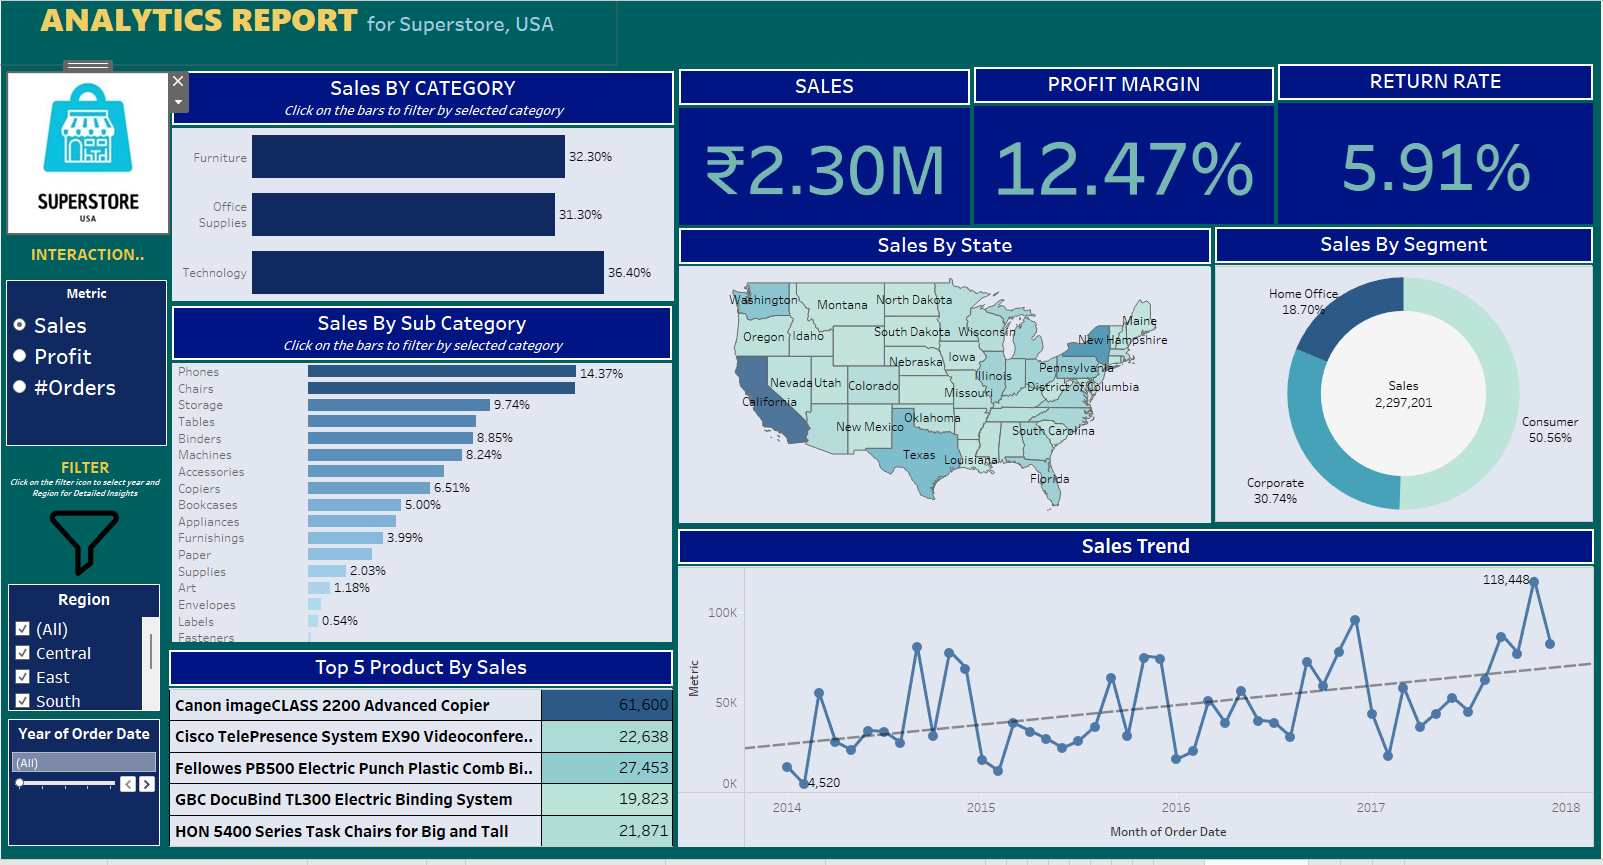

What the dashboard file says about the page in this screenshot:
{"tool":"tableau","page":{"name":"Dashboard 2","canvas":[1000,1000],"units":"permille","ordinal":0},"visuals":[{"type":"dashboard-object","box":[895.6,1.1,101.9,18.9]},{"type":"worksheet","title":"8","mark":"Automatic","box":[798.1,94.7,196.9,182.6]},{"type":"worksheet","title":"7","mark":"Automatic","box":[608.1,98,187.5,179.3]},{"type":"worksheet","title":"6","mark":"Automatic","box":[423.8,100.2,181.9,178.2]},{"type":"worksheet","title":"Parameter & Group: (Q.1)","mark":"Automatic","rows":["Category"],"cols":["Sales"],"box":[106.9,102.5,313.8,261.7]},{"type":"image","param":"Image/Picture1.jpg","box":[4.4,104.7,100,182.6]},{"type":"worksheet","title":"4","mark":"Pie","rows":["Calculation_1210905395875737616","Calculation_1210905395875758098"],"box":[758.8,280.6,236.2,336.3]},{"type":"worksheet","title":"3","mark":"Automatic","box":[423.8,281.7,332.5,336.3]},{"type":"text","box":[3.8,289.5,100.6,42.3]},{"type":"parameter","param":"[Parameters].[Parameter 3]","box":[3.1,340.8,100.6,189.3]},{"type":"worksheet","title":"1","mark":"Automatic","rows":["Sub-Category"],"cols":["Calculation_1210905395691753473"],"box":[106.9,369.7,312.5,383.1]},{"type":"text","box":[1.9,531.2,101.2,70.2]},{"type":"dashboard-object","box":[1.9,591.3,100,93.5]},{"type":"worksheet","title":"5","mark":"Automatic","rows":["Sales","Sales"],"cols":["Order Date"],"box":[423.1,623.6,572.5,363]},{"type":"filter","title":"8","param":"[federated.0hsd5130l4r3iv1anlj7r06luda5].[none:Region:nk]","box":[1.9,683,100,153.8]},{"type":"worksheet","title":"2","mark":"Square","rows":["Product Name"],"box":[105,761.7,315,224.9]},{"type":"filter","title":"8","param":"[federated.0hsd5130l4r3iv1anlj7r06luda5].[yr:Order Date:ok]","box":[1.9,836.8,100,152.7]}]}

Visuals, with their boxes on the dashboard's canvas, which has no fixed pixel size, in thousandths of its width and height (x1, y1, x2, y2). These are canvas units, not pixel positions in the 1603x865 screenshot, which may show the page scaled, cropped or inside an application window:
dashboard-object: 896:1:998:20
"8" worksheet: 798:95:995:277
"7" worksheet: 608:98:796:277
"6" worksheet: 424:100:606:278
"Parameter & Group: (Q.1)" worksheet: 107:102:421:364
image: 4:105:104:287
"4" worksheet (Pie marks): 759:281:995:617
"3" worksheet: 424:282:756:618
text: 4:290:104:332
parameter: 3:341:104:530
"1" worksheet: 107:370:419:753
text: 2:531:103:601
dashboard-object: 2:591:102:685
"5" worksheet: 423:624:996:987
"8" filter: 2:683:102:837
"2" worksheet (Square marks): 105:762:420:987
"8" filter: 2:837:102:990
